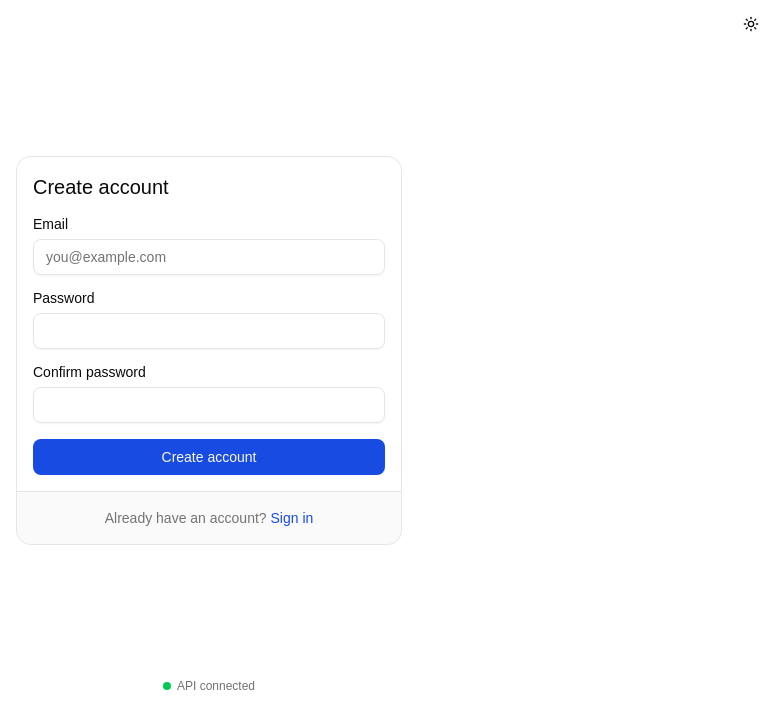
Test: Signup page › shows required error when email is blank
Click the button "Create account".
click(209, 456)  # box [33,438,385,474]
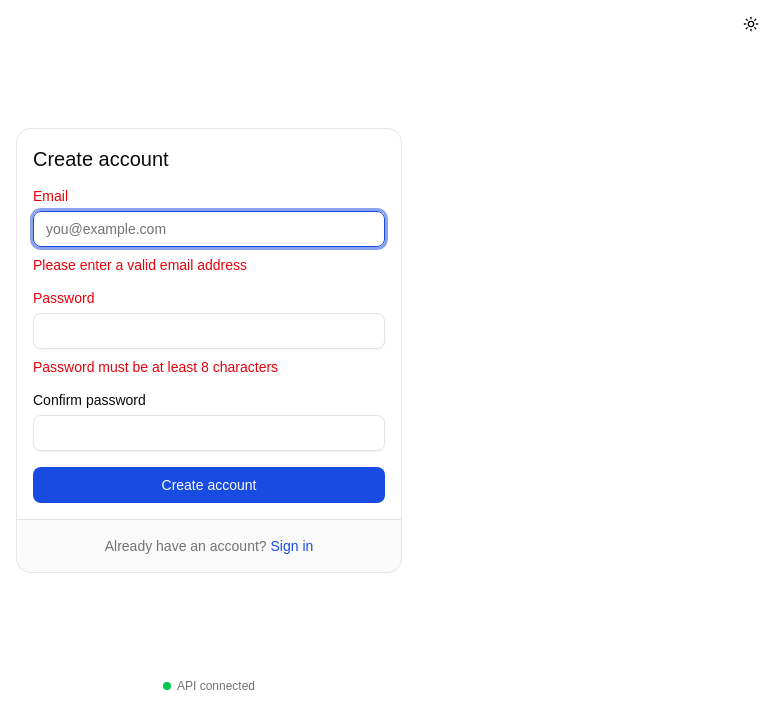
Expected: the text "Please enter a valid email address" is shown, [33,256,247,272]
